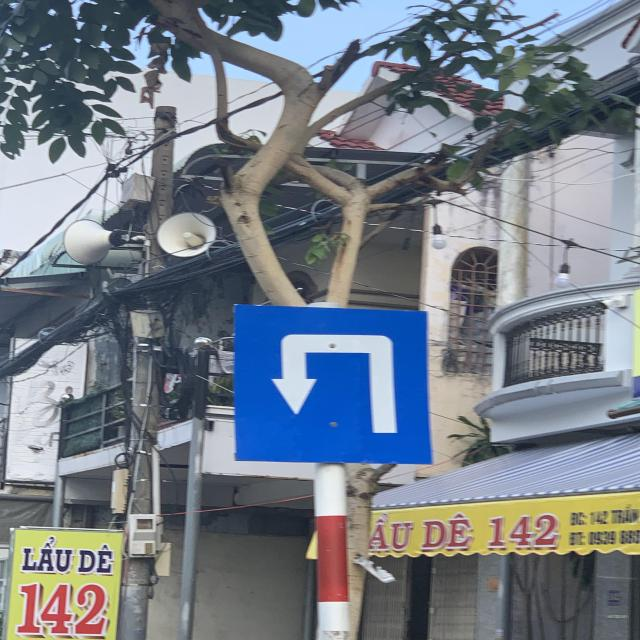Den_Giao_Thong: (233, 302, 429, 462)
